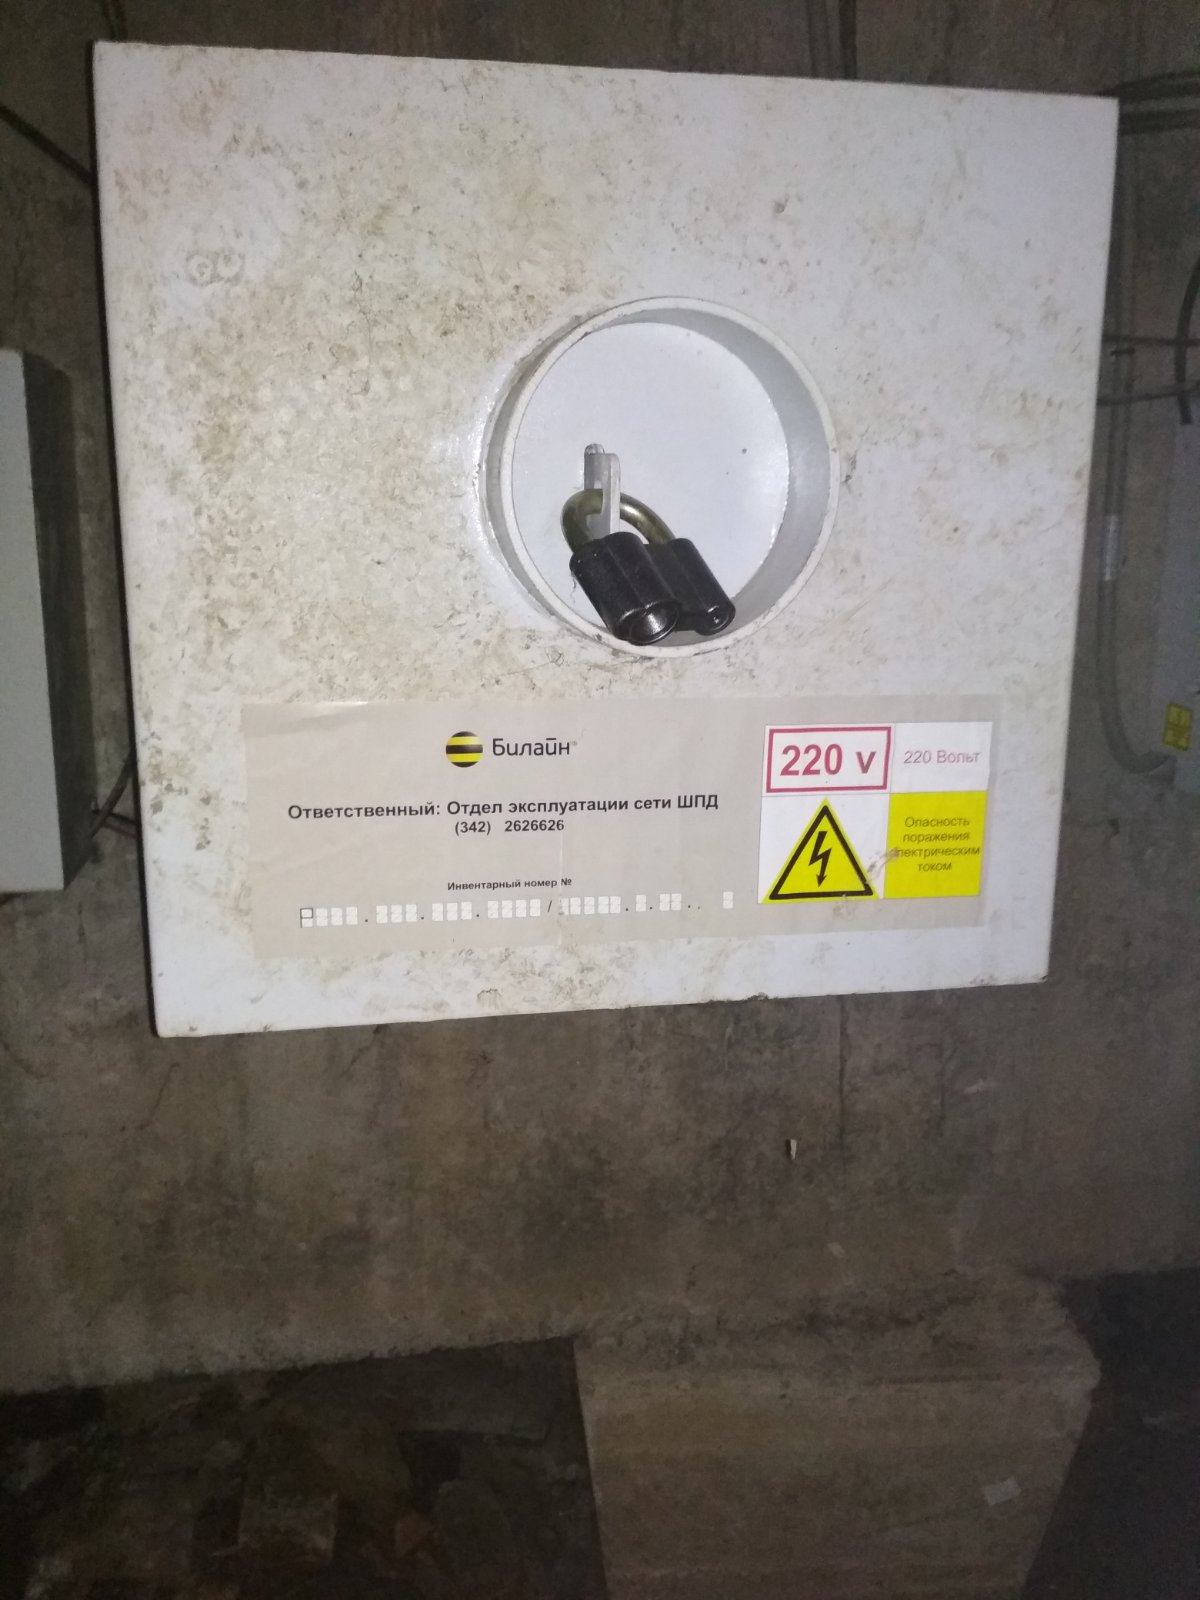shta-9: (78, 16, 1131, 1051)
